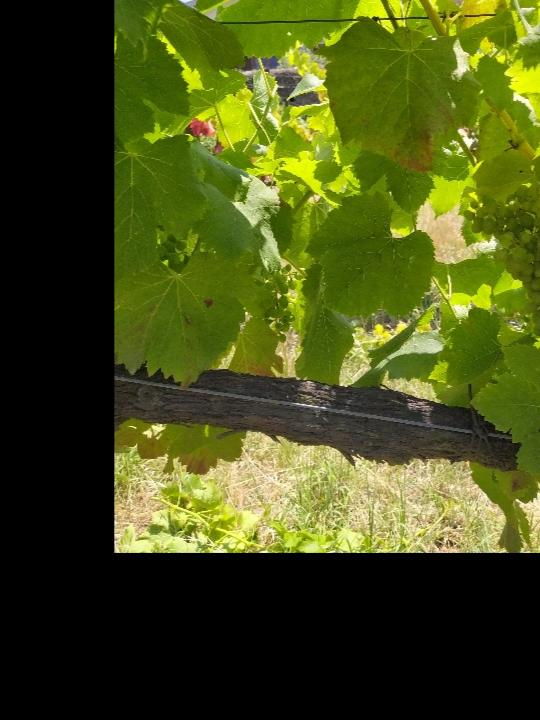grape: (464, 183, 540, 351), (254, 265, 305, 345)
